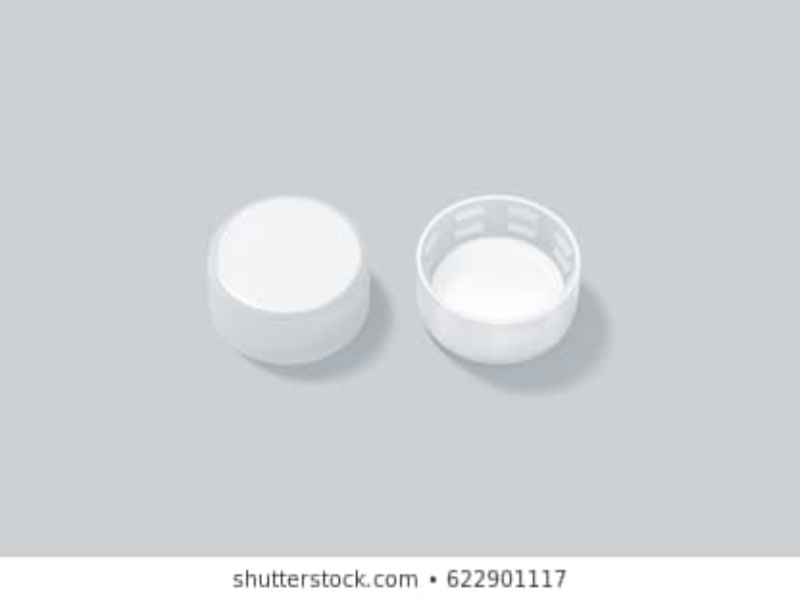bottle-cap: (410, 193, 582, 375), (199, 193, 371, 367)
